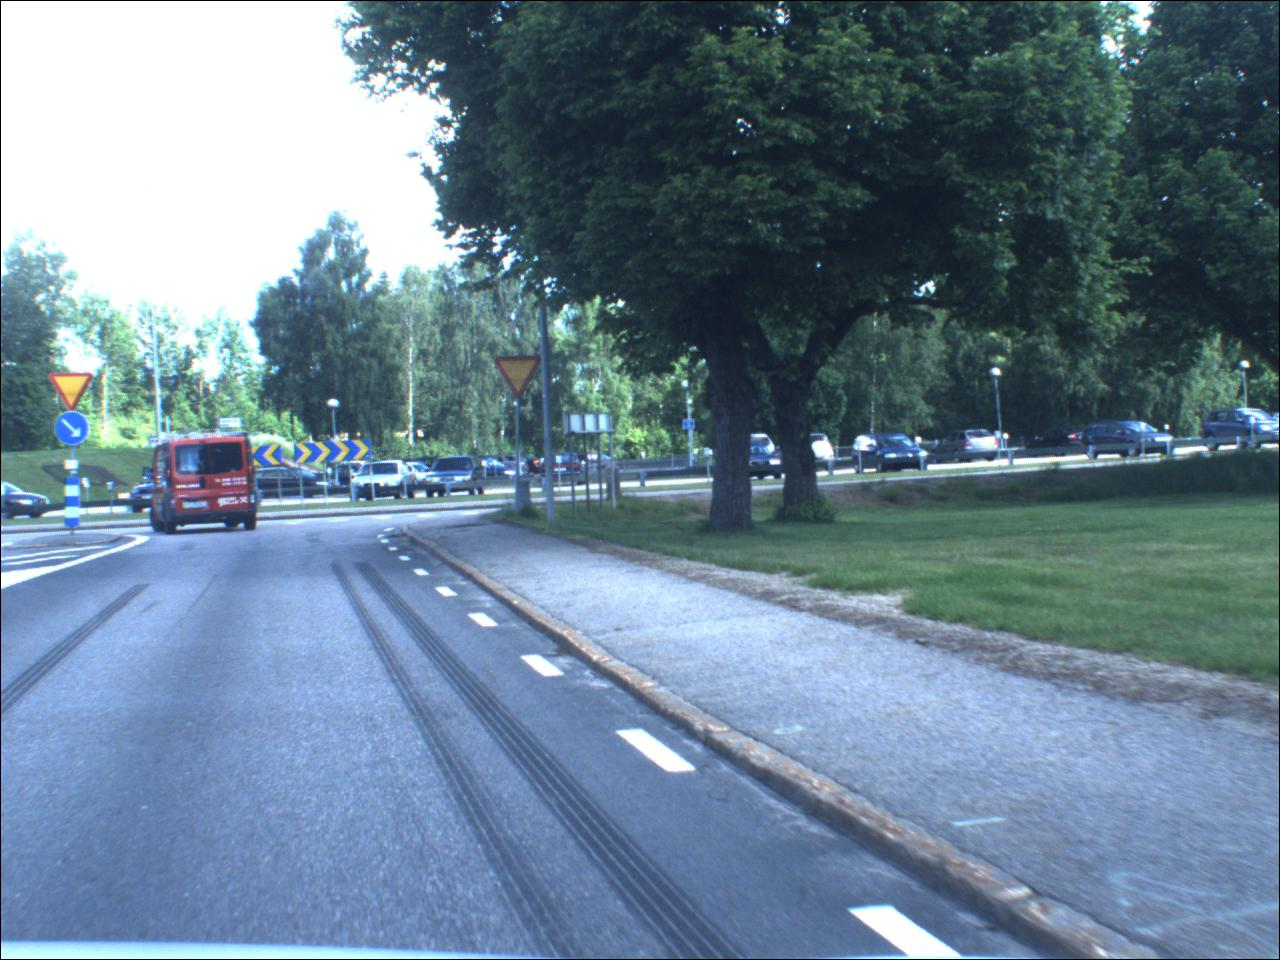GIVE_WAY: (493, 350, 541, 401), (50, 374, 96, 412)
PASS_RIGHT_SIDE: (57, 413, 92, 448)
